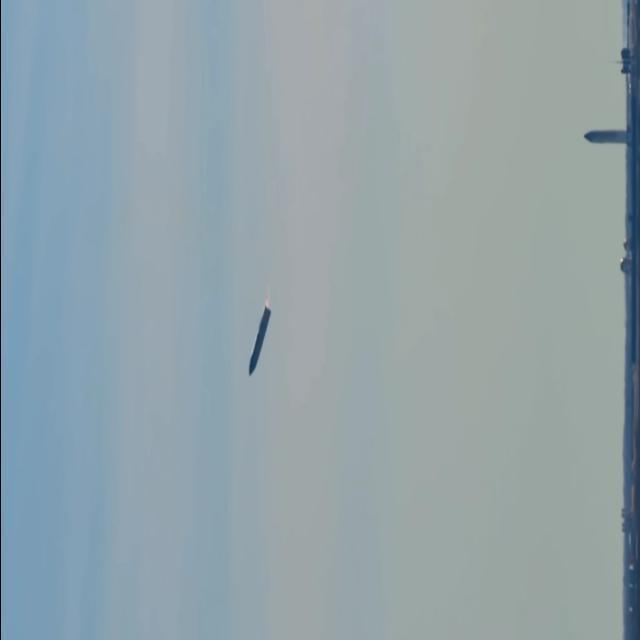Missile: (246, 300, 277, 382)
